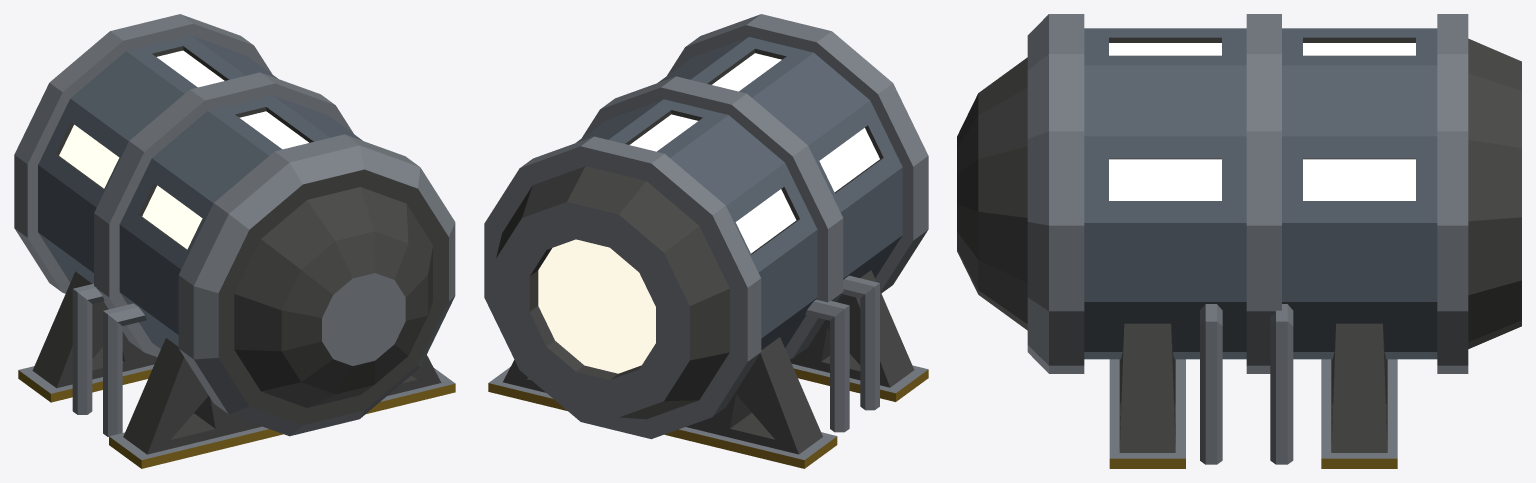
Rendered from impulse_drive.glb.
The picture shows the model from 3 angles, left to right: view 1: azimuth 30°, elevation 25°; view 2: azimuth 150°, elevation 25°; view 3: azimuth 270°, elevation 25°; orthographic projection. The views are drawn at different scales.
Parts seen in each view (by area): view 1: impulse_drive; view 2: impulse_drive; view 3: impulse_drive.
Part boxes in pixels (x1,y1,x2,y2): impulse_drive: (14, 14, 455, 468); impulse_drive: (484, 14, 928, 468); impulse_drive: (957, 14, 1521, 468).
Size of the model in its own units: 3 by 2.7 by 4.
